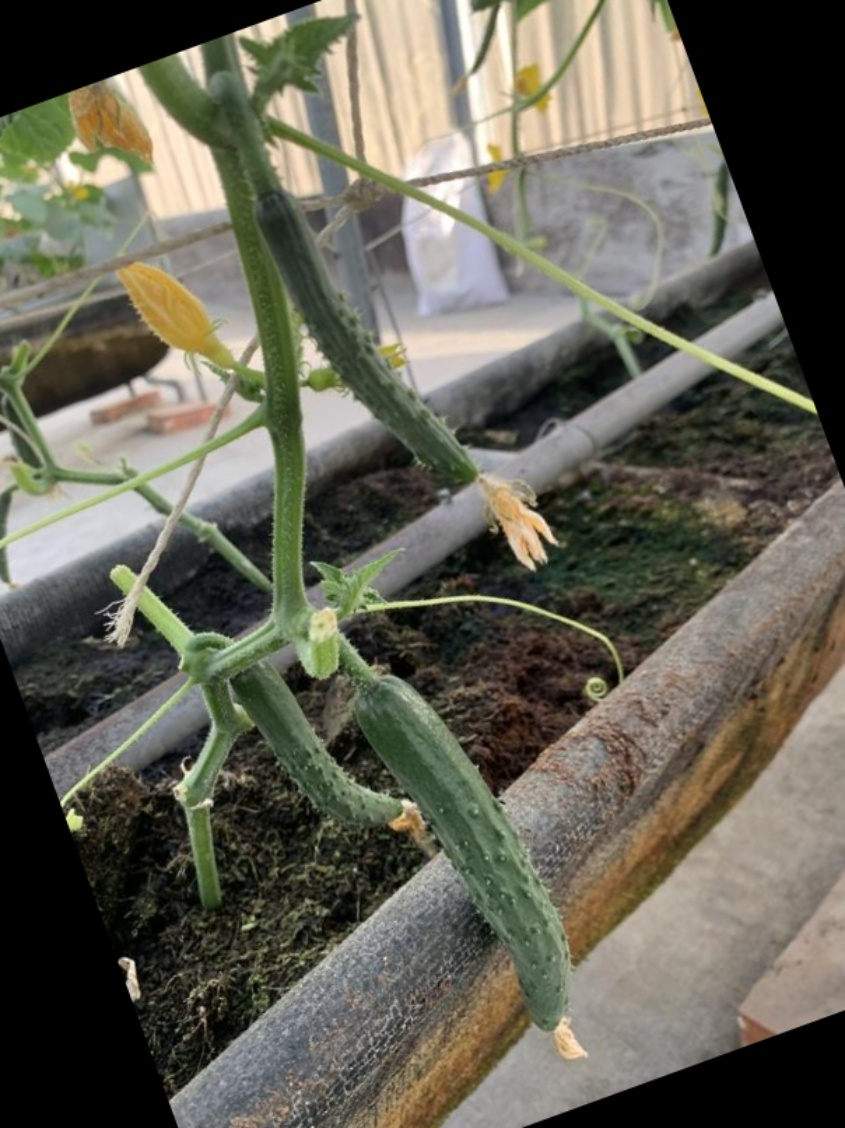growth: (225, 653, 414, 829)
